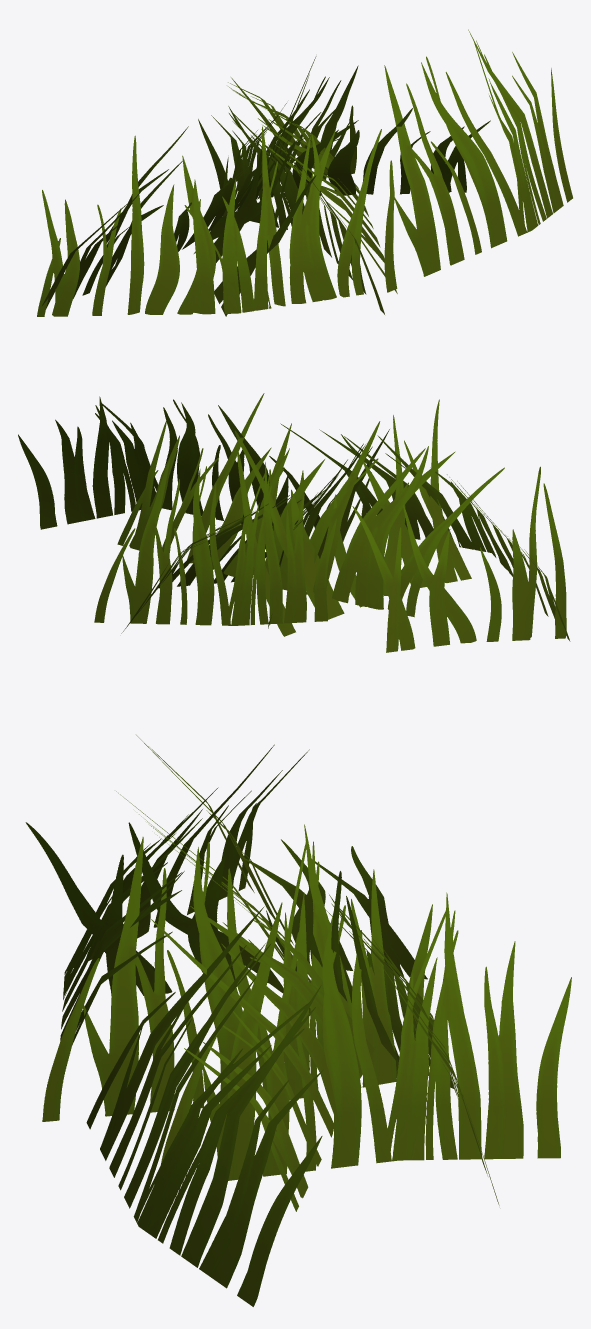
File: Grass01.FBX
3 views of the same model, one above another, from view 1: azimuth 30°, elevation 25°; view 2: azimuth 150°, elevation 25°; view 3: azimuth 270°, elevation 25° (orthographic). The views are drawn at different scales.
Visible parts, largest first — view 1: Group001; view 2: Group001; view 3: Group001.
Boxes of the visible parts, x1,y1,x2,y2 form: Group001: (37,29,572,316); Group001: (18,393,570,652); Group001: (25,735,571,1306).
Bounding box in the file's own units: 231 × 94.49 × 135.
